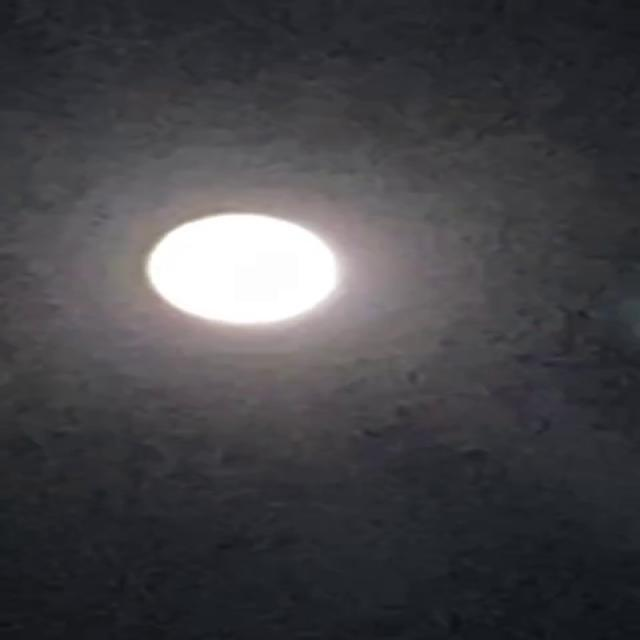moon: (116, 201, 343, 322)
